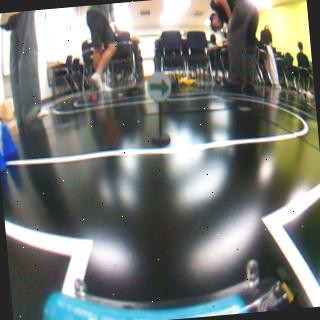right: (146, 74, 171, 102)
